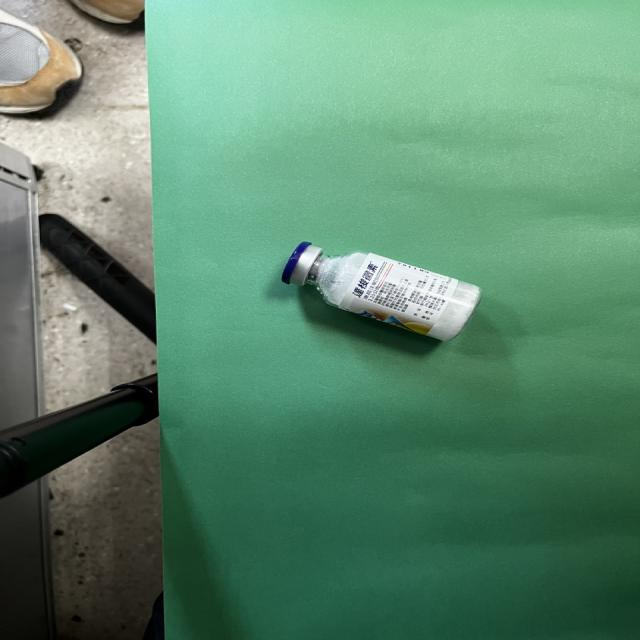Vials: (281, 242, 479, 341)
